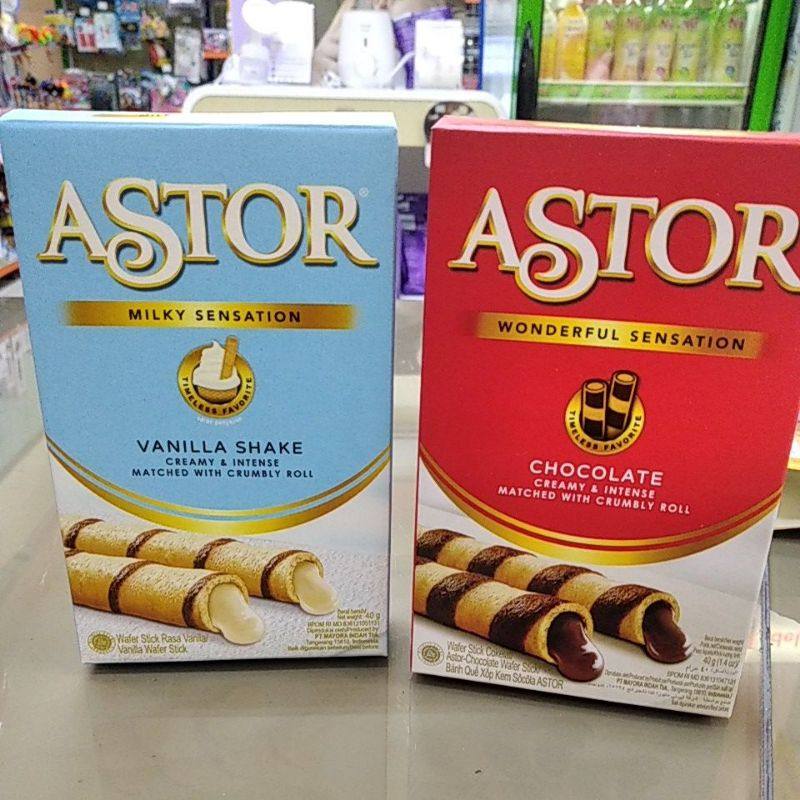Astor Chocolate (40g): (412, 94, 787, 725)
